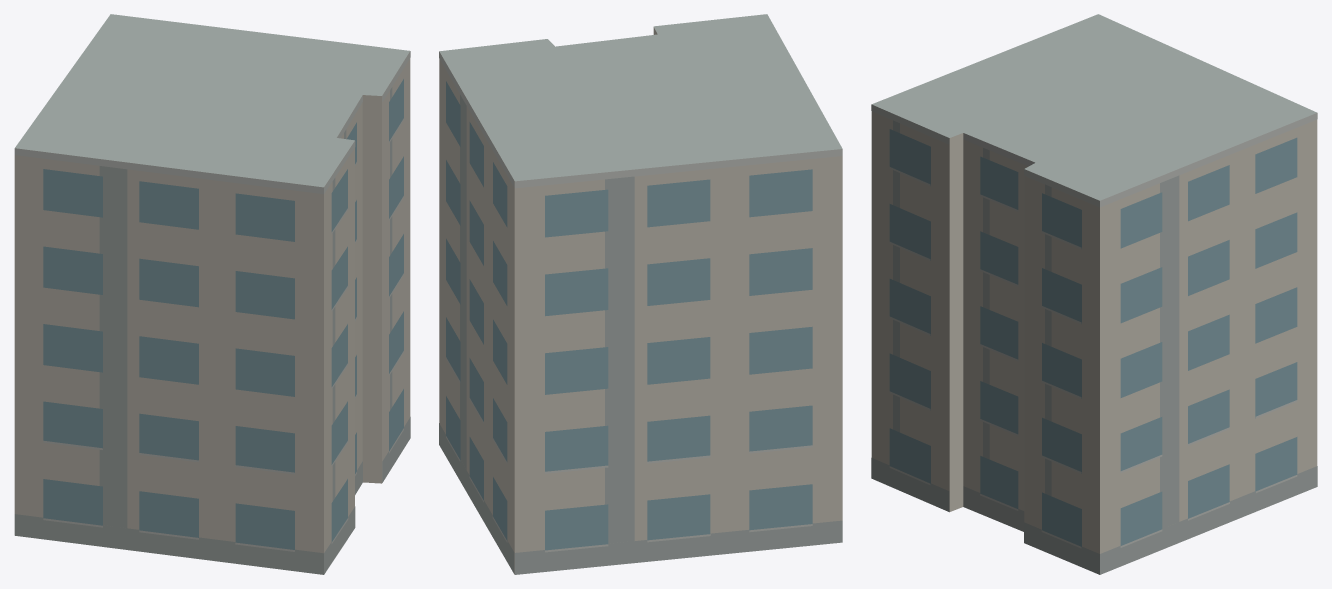
Rendered from survey-upis-32676166.glb.
3 views of the same model, side by side, from view 1: azimuth 30°, elevation 25°; view 2: azimuth 150°, elevation 25°; view 3: azimuth 270°, elevation 25° (orthographic). The views are drawn at different scales.
Parts seen in each view (by area): view 1: survey-upis-32676166.tmp; view 2: survey-upis-32676166.tmp; view 3: survey-upis-32676166.tmp.
Part boxes in pixels (x1=…): survey-upis-32676166.tmp: x1=14, y1=14, x2=410, y2=574; survey-upis-32676166.tmp: x1=439, y1=14, x2=842, y2=574; survey-upis-32676166.tmp: x1=871, y1=14, x2=1317, y2=574.
Size of the model in its own units: 14.68 by 13.7 by 14.81.
